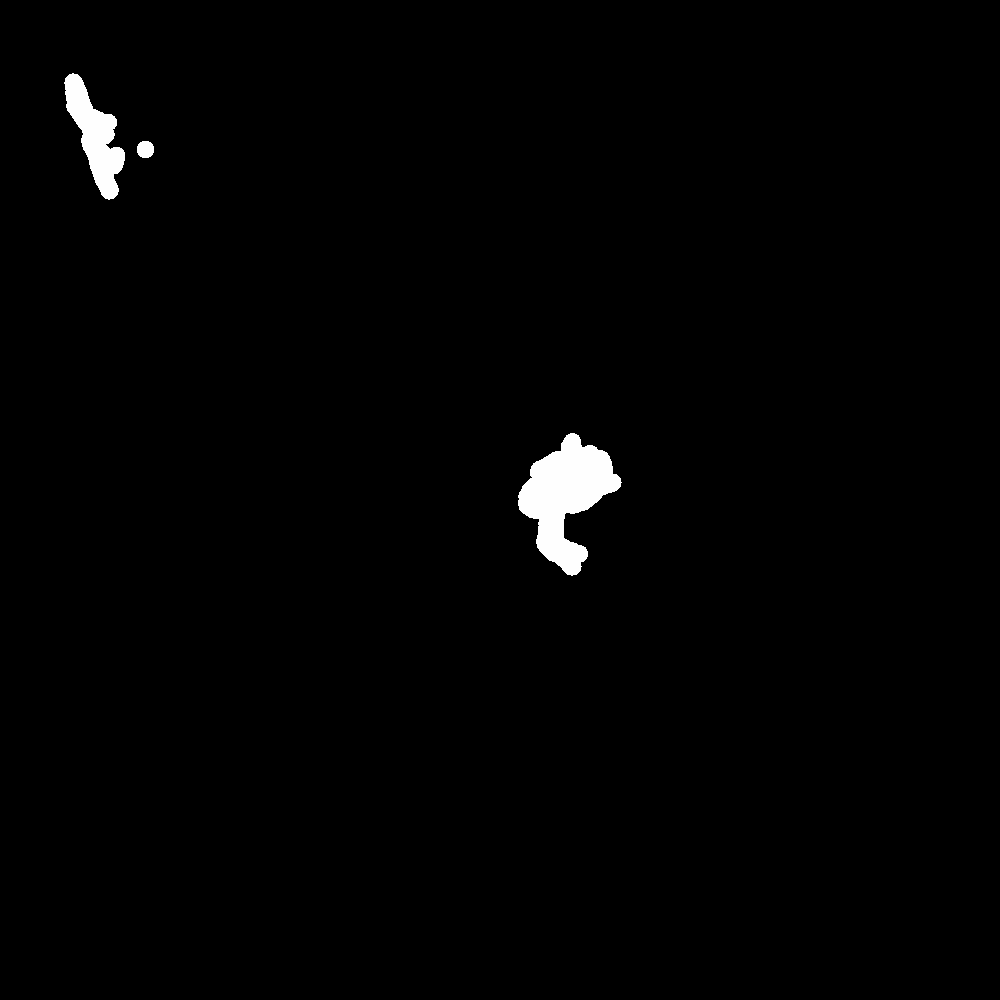illegal: (65, 61, 148, 195), (522, 463, 583, 564)
